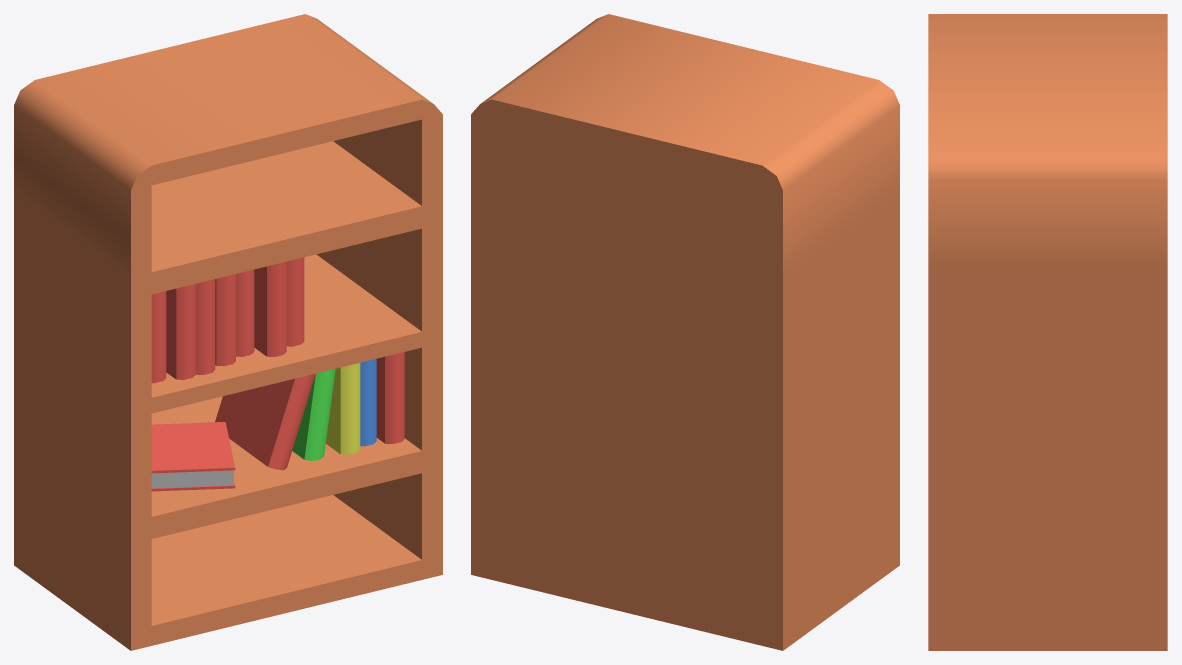
Rendered from Asset02_Estante.fbx.
3 renders of one model, left to right at view 1: azimuth 30°, elevation 25°; view 2: azimuth 150°, elevation 25°; view 3: azimuth 270°, elevation 25°, orthographic. The views are drawn at different scales.
Visible parts, largest first — view 1: Estante, Livro_4, Livro_12, Livro_10, Livro_6, Livro_2, Livro, Livro_3, Livro_8, Livro_7, Livro_11, Livro_9 (+2 smaller); view 2: Estante; view 3: Estante.
Part boxes in pixels (x1=…): Estante: x1=14, y1=14, x2=442, y2=650; Livro_4: x1=215, y1=373, x2=315, y2=470; Livro_12: x1=151, y1=422, x2=235, y2=491; Livro_10: x1=254, y1=261, x2=286, y2=356; Livro_6: x1=166, y1=284, x2=195, y2=379; Livro_2: x1=326, y1=363, x2=360, y2=454; Livro: x1=376, y1=352, x2=404, y2=443; Livro_3: x1=292, y1=369, x2=335, y2=460; Livro_8: x1=215, y1=274, x2=235, y2=366; Livro_7: x1=196, y1=279, x2=215, y2=374; Livro_11: x1=286, y1=257, x2=304, y2=346; Livro_9: x1=236, y1=269, x2=254, y2=356; Estante: x1=471, y1=14, x2=899, y2=650; Estante: x1=928, y1=14, x2=1167, y2=650.
Bounding box in the file's own units: 136 × 200 × 88.19.
